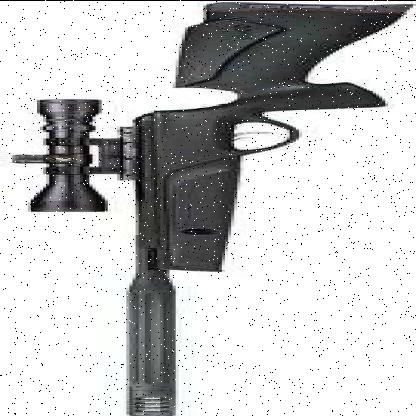rifle: (6, 1, 414, 416)
